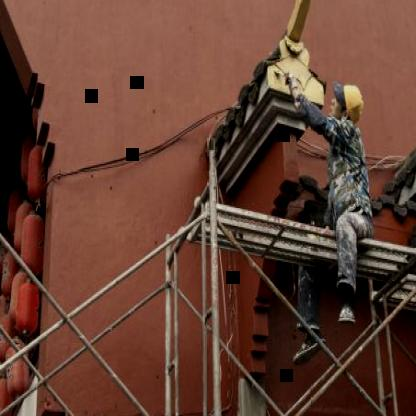helmet: (330, 78, 364, 126)
